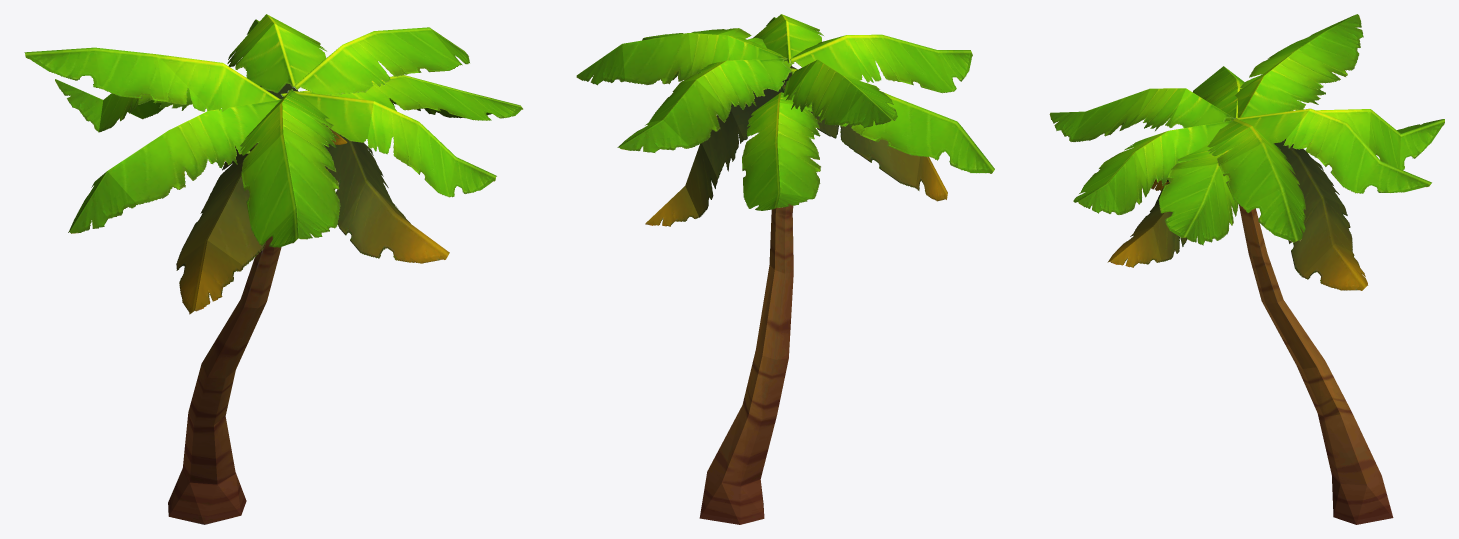
The model's file is shatan_yezishu01.fbx.
3 views of the same model, side by side, from view 1: azimuth 30°, elevation 25°; view 2: azimuth 150°, elevation 25°; view 3: azimuth 270°, elevation 25° (orthographic). The views are drawn at different scales.
Parts seen in each view (by area): view 1: shatan_yezishu01; view 2: shatan_yezishu01; view 3: shatan_yezishu01.
Part boxes in pixels (box(x1,y1,x2,y2)): shatan_yezishu01: box(24, 14, 523, 524); shatan_yezishu01: box(576, 14, 994, 524); shatan_yezishu01: box(1049, 14, 1444, 524).
Size of the model in its own units: 3.78 by 4.05 by 3.57.
